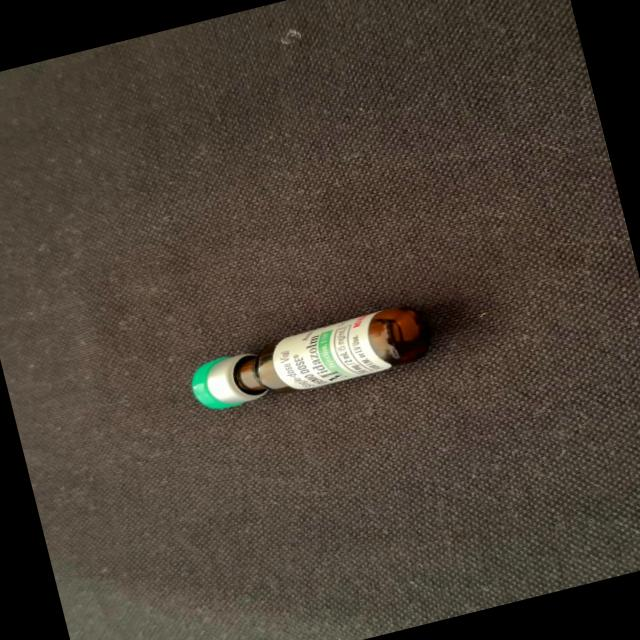midazolm: (189, 301, 430, 414)
